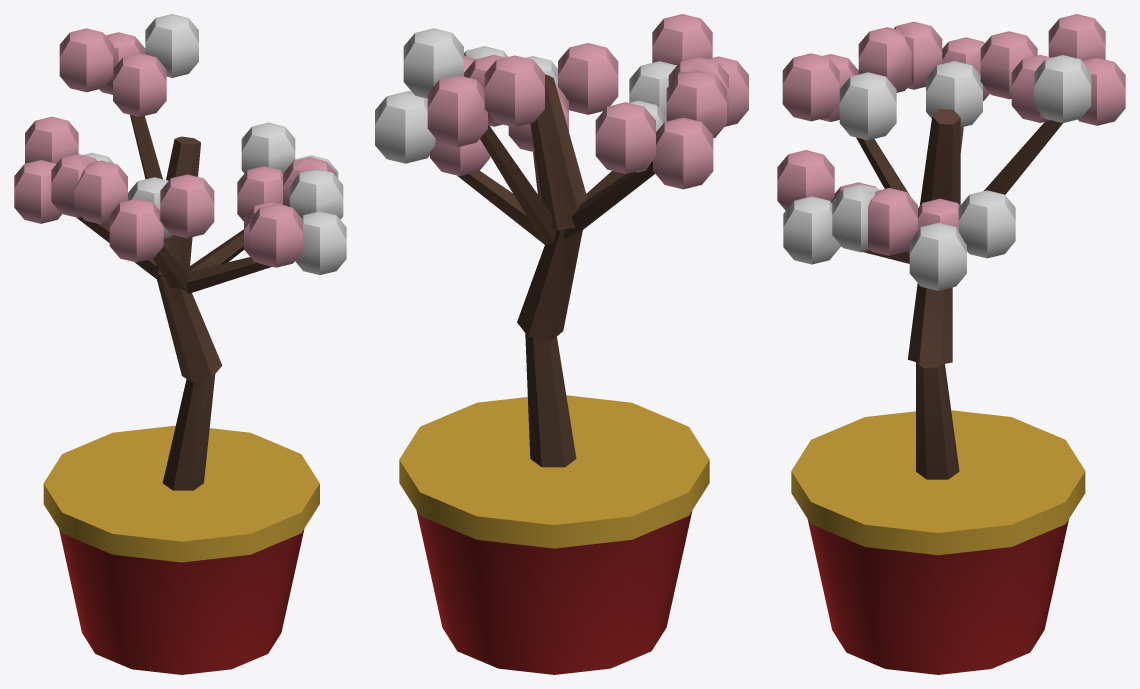
File: pr-peach.glb
3 renders of one model, left to right at view 1: azimuth 30°, elevation 25°; view 2: azimuth 150°, elevation 25°; view 3: azimuth 270°, elevation 25°, orthographic. The views are drawn at different scales.
Bounding box in the file's own units: 0.9357 × 1.62 × 0.8527.
